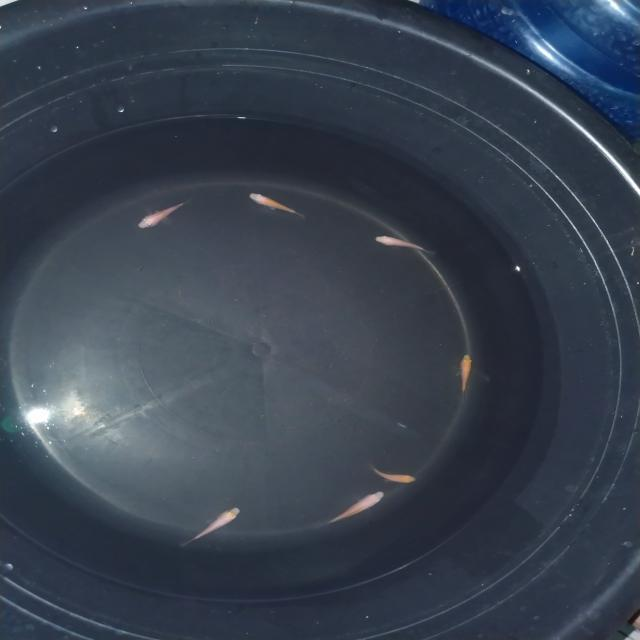nila: (308, 488, 387, 530), (181, 502, 244, 543), (246, 189, 313, 221), (371, 230, 439, 258), (132, 199, 187, 233), (365, 458, 418, 487), (456, 351, 476, 402)
